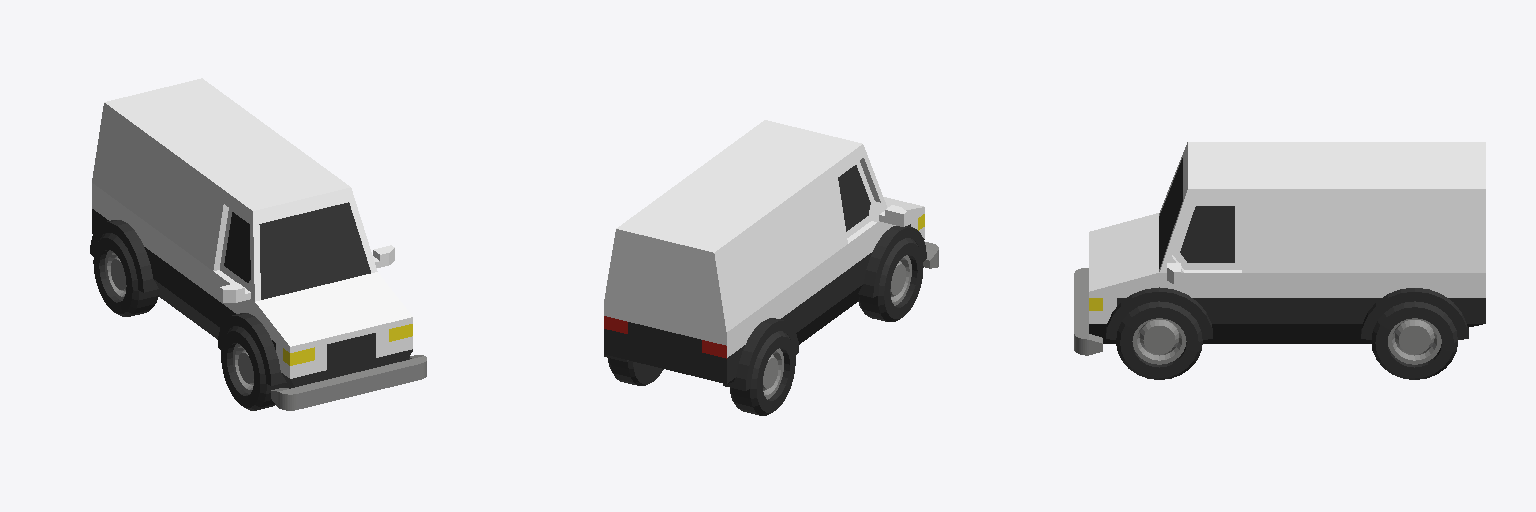
The model's file is van_white.obj.
3 renders of one model, left to right at view 1: azimuth 30°, elevation 25°; view 2: azimuth 150°, elevation 25°; view 3: azimuth 270°, elevation 25°, orthographic.
Visible parts, largest first — view 1: mergedBlocks; view 2: mergedBlocks; view 3: mergedBlocks.
Boxes of the visible parts, <box> form: mergedBlocks: <box>90,78,426,410</box>; mergedBlocks: <box>604,120,938,415</box>; mergedBlocks: <box>1074,142,1485,379</box>.
Size of the model in its own units: 1.4 by 1.41 by 2.9.